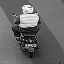motor: (10, 4, 42, 55)
